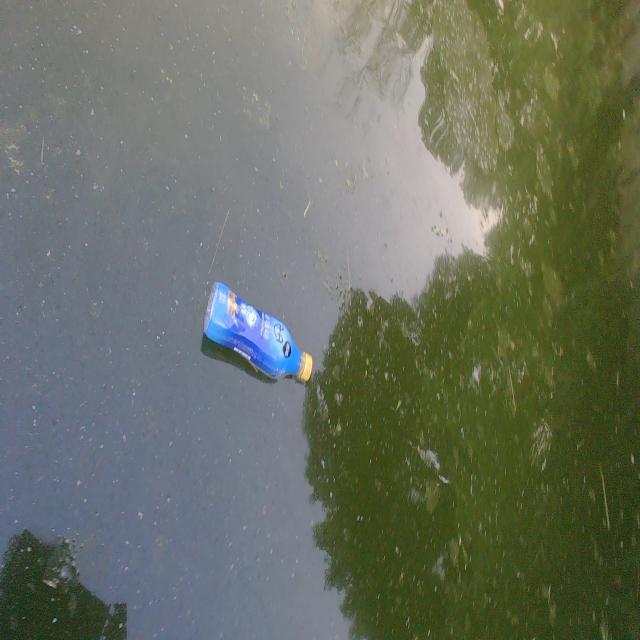bottle: (183, 247, 328, 408)
